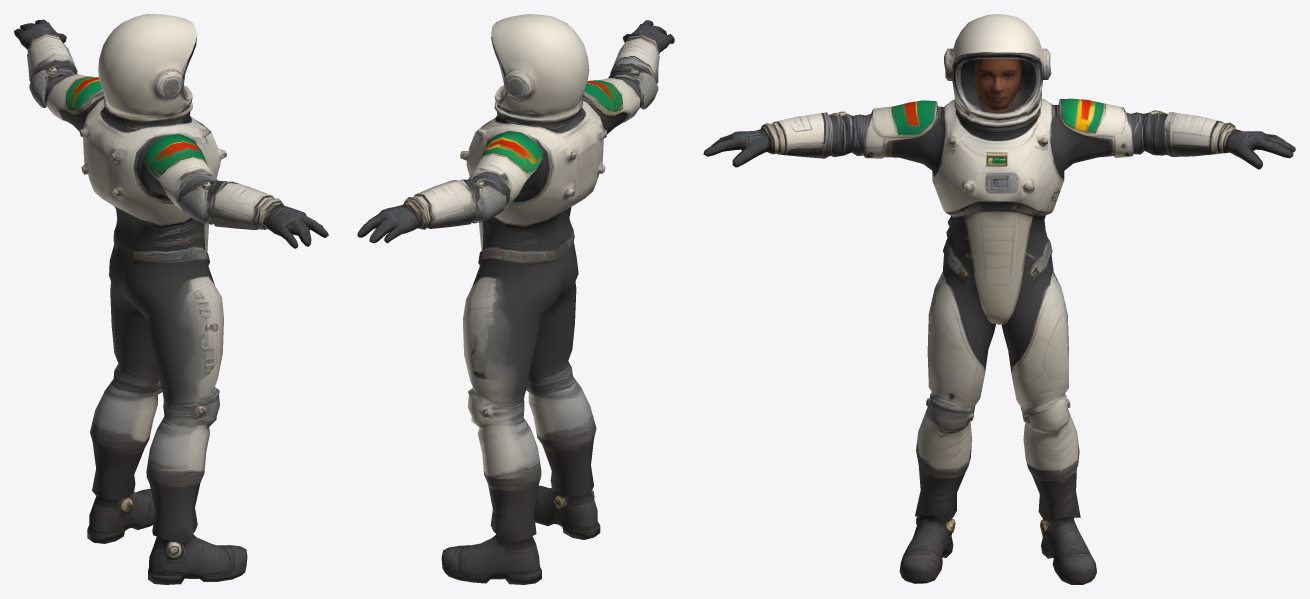
File: astronaut-pilot.glb
The picture shows the model from 3 angles, left to right: view 1: azimuth 30°, elevation 25°; view 2: azimuth 150°, elevation 25°; view 3: azimuth 270°, elevation 25°; orthographic projection.
Parts seen in each view (by area): view 1: tripo_node_9713f806-52f7-4e53-9c03-fc3da56912bb; view 2: tripo_node_9713f806-52f7-4e53-9c03-fc3da56912bb; view 3: tripo_node_9713f806-52f7-4e53-9c03-fc3da56912bb.
Boxes of the visible parts, x1,y1,x2,y2 form: tripo_node_9713f806-52f7-4e53-9c03-fc3da56912bb: (14,14,328,584); tripo_node_9713f806-52f7-4e53-9c03-fc3da56912bb: (357,14,674,584); tripo_node_9713f806-52f7-4e53-9c03-fc3da56912bb: (703,14,1295,584).
Bounding box in the file's own units: 0.2246 × 0.998 × 0.9902.
1 material, 1 textured.
